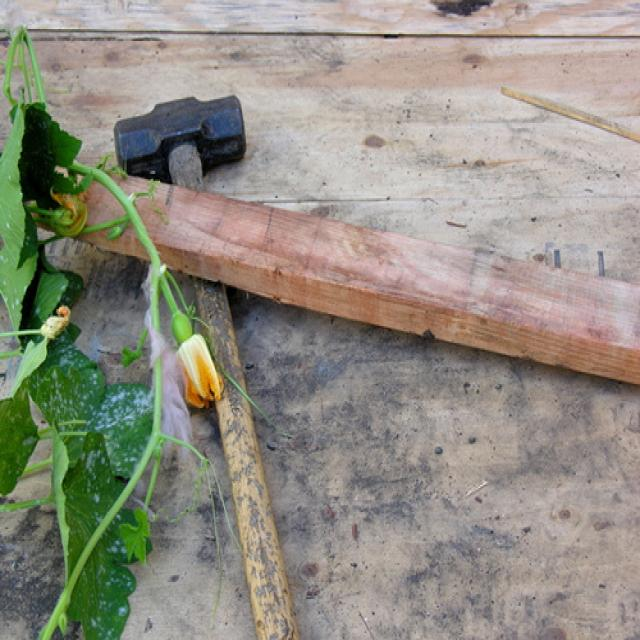hammer: (99, 45, 270, 588)
